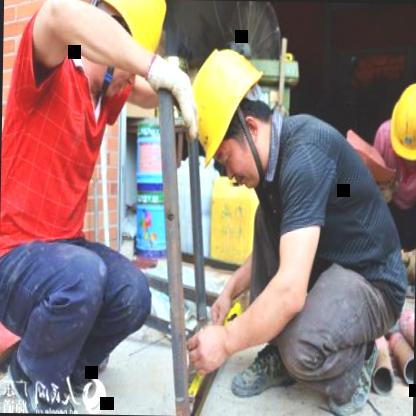helmet: (186, 42, 280, 194), (77, 0, 171, 108), (386, 80, 416, 173)
